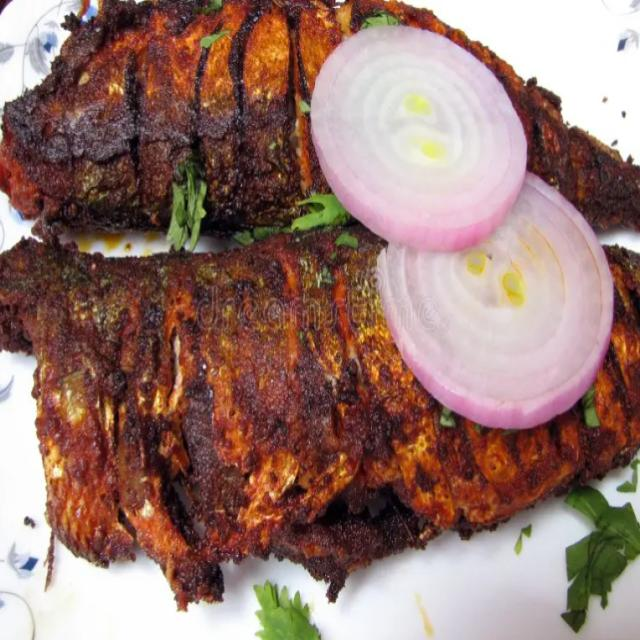FISH FRY: (0, 2, 639, 610)
